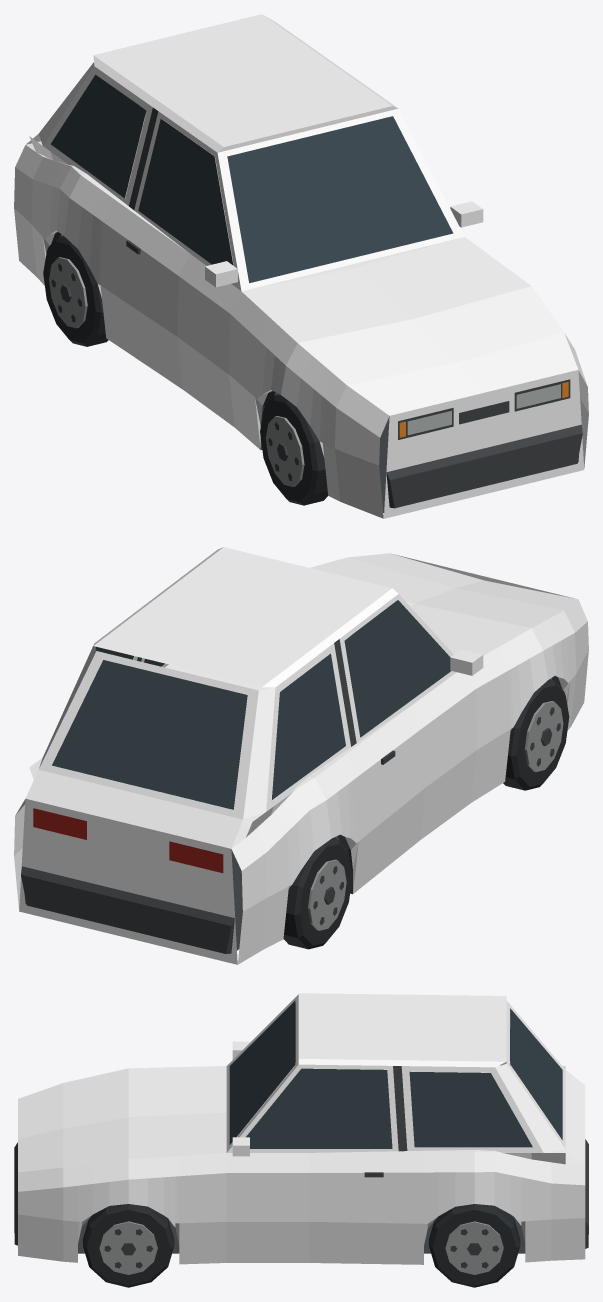
File: vorhaus_dachs.glb
The picture shows the model from 3 angles, top to bottom: view 1: azimuth 30°, elevation 25°; view 2: azimuth 150°, elevation 25°; view 3: azimuth 270°, elevation 25°; orthographic projection. The views are drawn at different scales.
Parts seen in each view (by area): view 1: vorhaus_dachs; view 2: vorhaus_dachs; view 3: vorhaus_dachs.
Part boxes in pixels (x1,y1,x2,y2): vorhaus_dachs: [14, 14, 588, 518]; vorhaus_dachs: [14, 547, 588, 964]; vorhaus_dachs: [14, 993, 588, 1287].
Size of the model in its own units: 1.7 by 1.62 by 3.97.
Materials: 8 (1 with a texture image).
